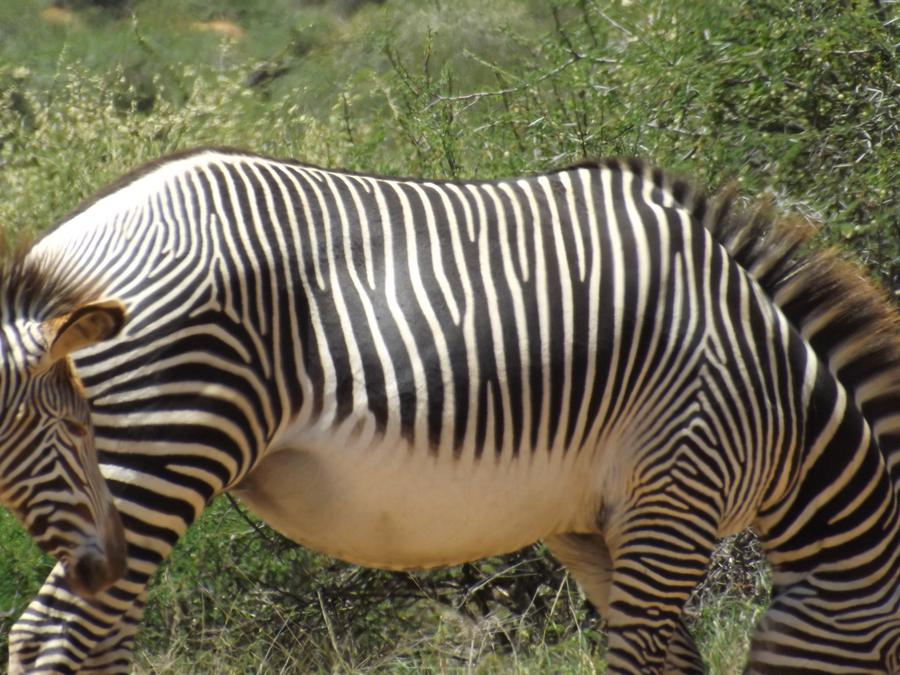zebra_grevys: (52, 111, 729, 566)
